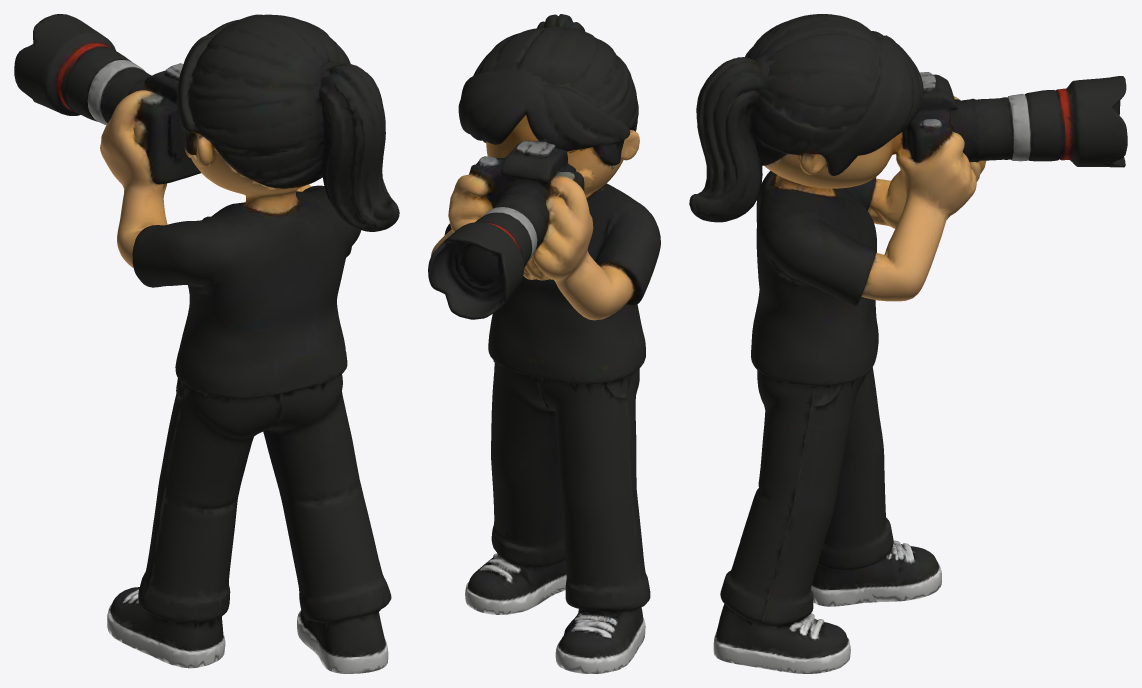
Rendered from photographer-women.glb.
3 renders of one model, left to right at view 1: azimuth 30°, elevation 25°; view 2: azimuth 150°, elevation 25°; view 3: azimuth 270°, elevation 25°, orthographic. The views are drawn at different scales.
Visible parts, largest first — view 1: tripo_node_8c616c92-44cd-4b86-bde1-6979aed9afc3; view 2: tripo_node_8c616c92-44cd-4b86-bde1-6979aed9afc3; view 3: tripo_node_8c616c92-44cd-4b86-bde1-6979aed9afc3.
Part boxes in pixels (x1=…): tripo_node_8c616c92-44cd-4b86-bde1-6979aed9afc3: x1=14, y1=14, x2=399, y2=673; tripo_node_8c616c92-44cd-4b86-bde1-6979aed9afc3: x1=428, y1=14, x2=660, y2=673; tripo_node_8c616c92-44cd-4b86-bde1-6979aed9afc3: x1=689, y1=14, x2=1127, y2=673.
Bounding box in the file's own units: 0.3552 × 0.9998 × 0.6549.
Materials: 1 (1 with a texture image).
